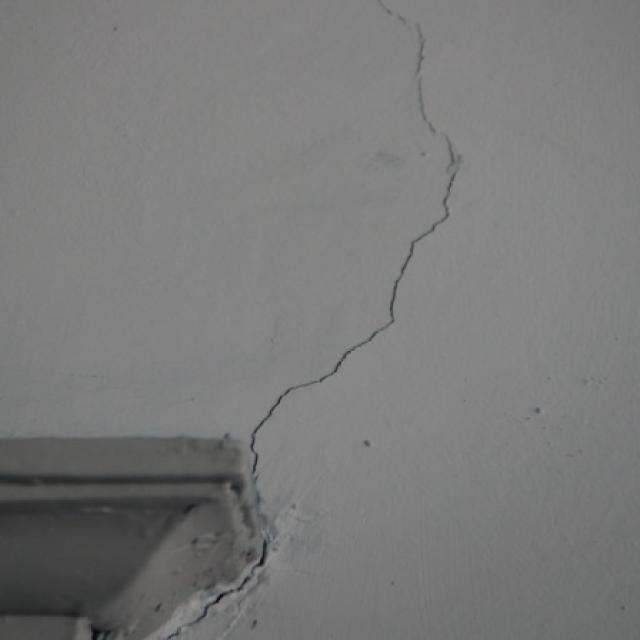diagonal crack: (245, 21, 476, 487), (116, 514, 288, 640)
